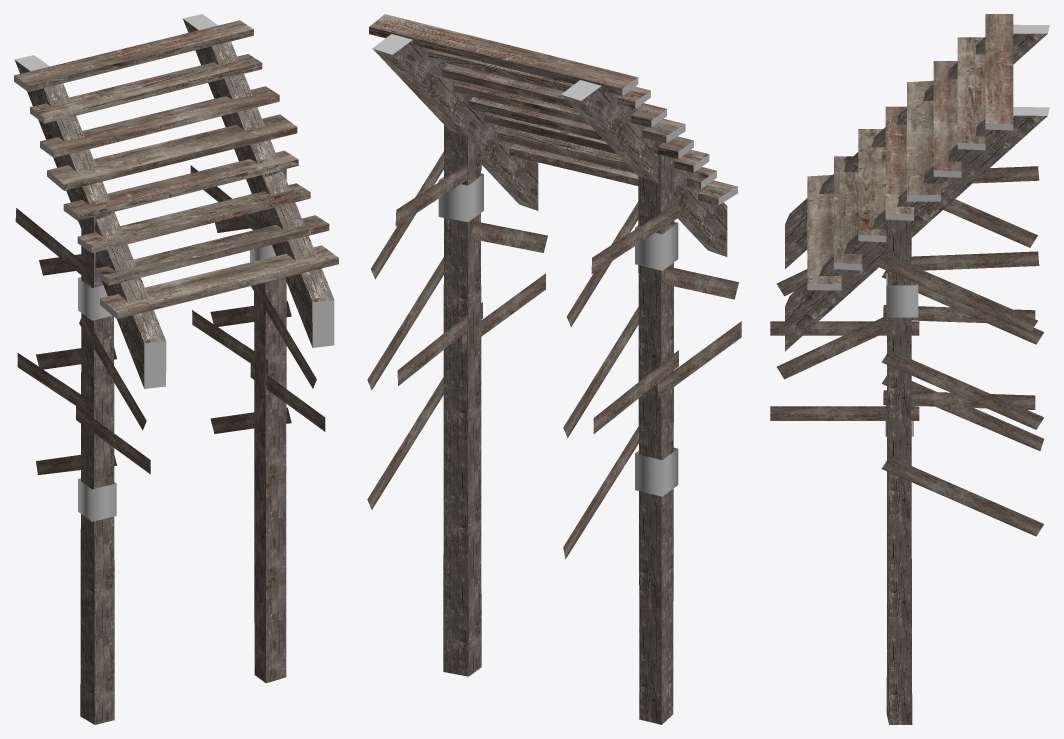
Rendered from Pier_Stairs1_LOD1.fbx.
The picture shows the model from 3 angles, left to right: view 1: azimuth 30°, elevation 25°; view 2: azimuth 150°, elevation 25°; view 3: azimuth 270°, elevation 25°; orthographic projection. The views are drawn at different scales.
Parts seen in each view (by area): view 1: Object039; view 2: Object039; view 3: Object039.
Boxes of the visible parts, x1=… form: Object039: x1=14, y1=14, x2=338, y2=724; Object039: x1=367, y1=14, x2=741, y2=724; Object039: x1=770, y1=14, x2=1049, y2=724.
Size of the model in its own units: 2.99 by 7.48 by 3.11.
